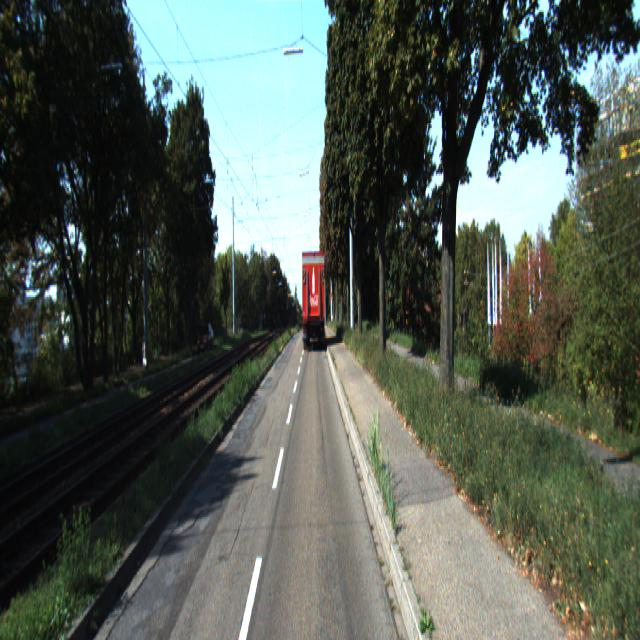Car: (300, 248, 326, 352), (196, 322, 214, 357)
